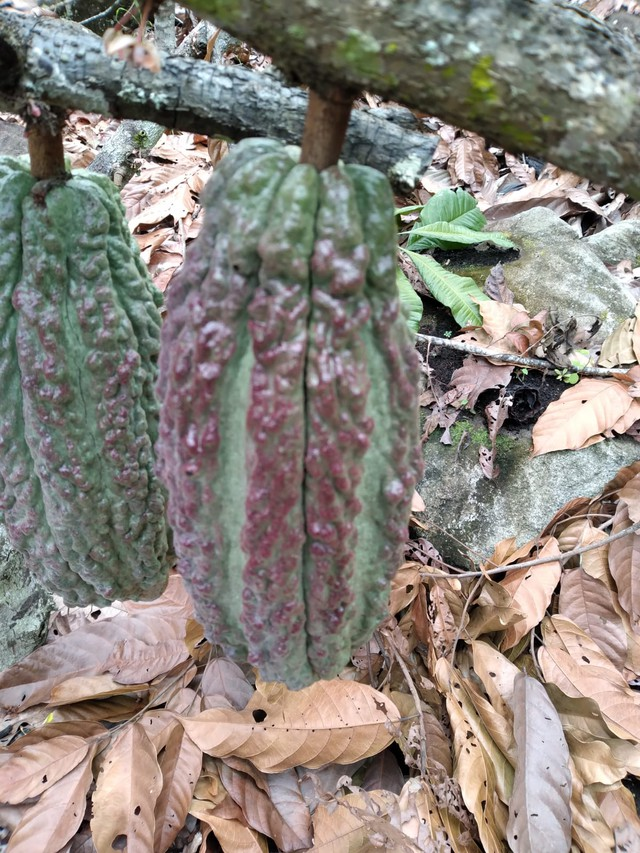Health: (150, 128, 437, 690)
